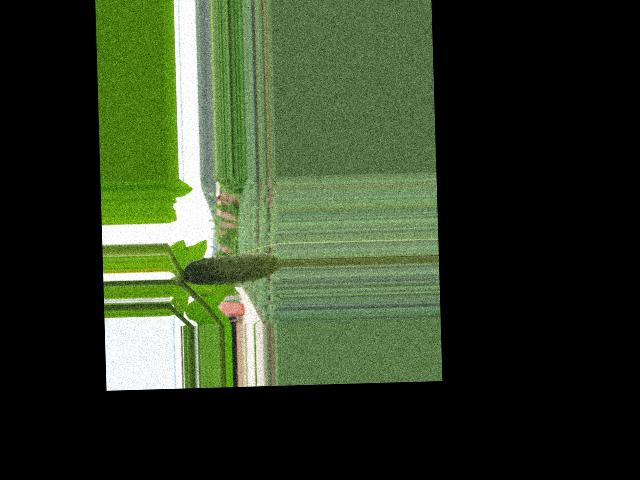cucumber: (184, 252, 280, 285)
